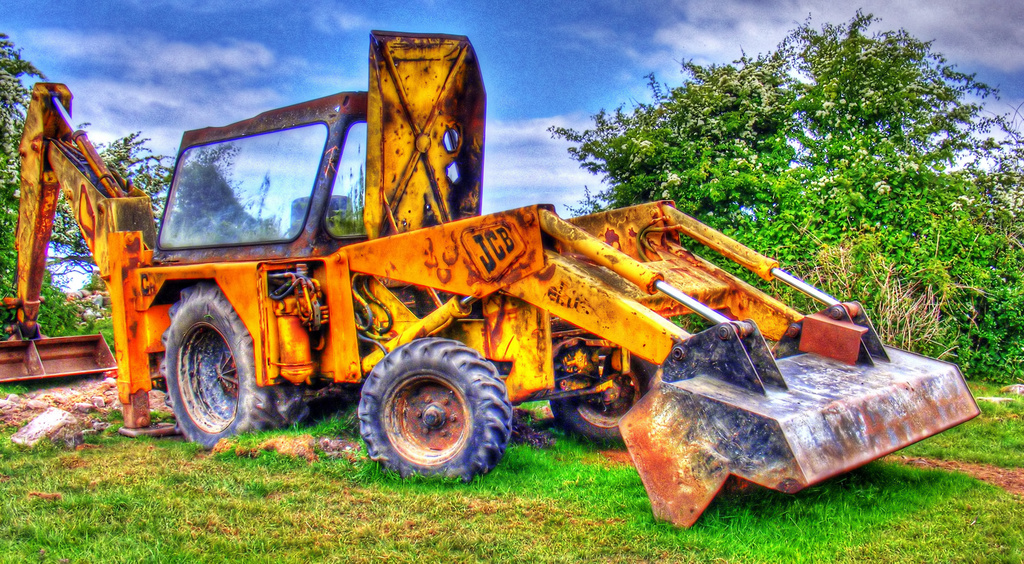Tree: (545, 6, 1024, 381), (0, 33, 281, 340)
